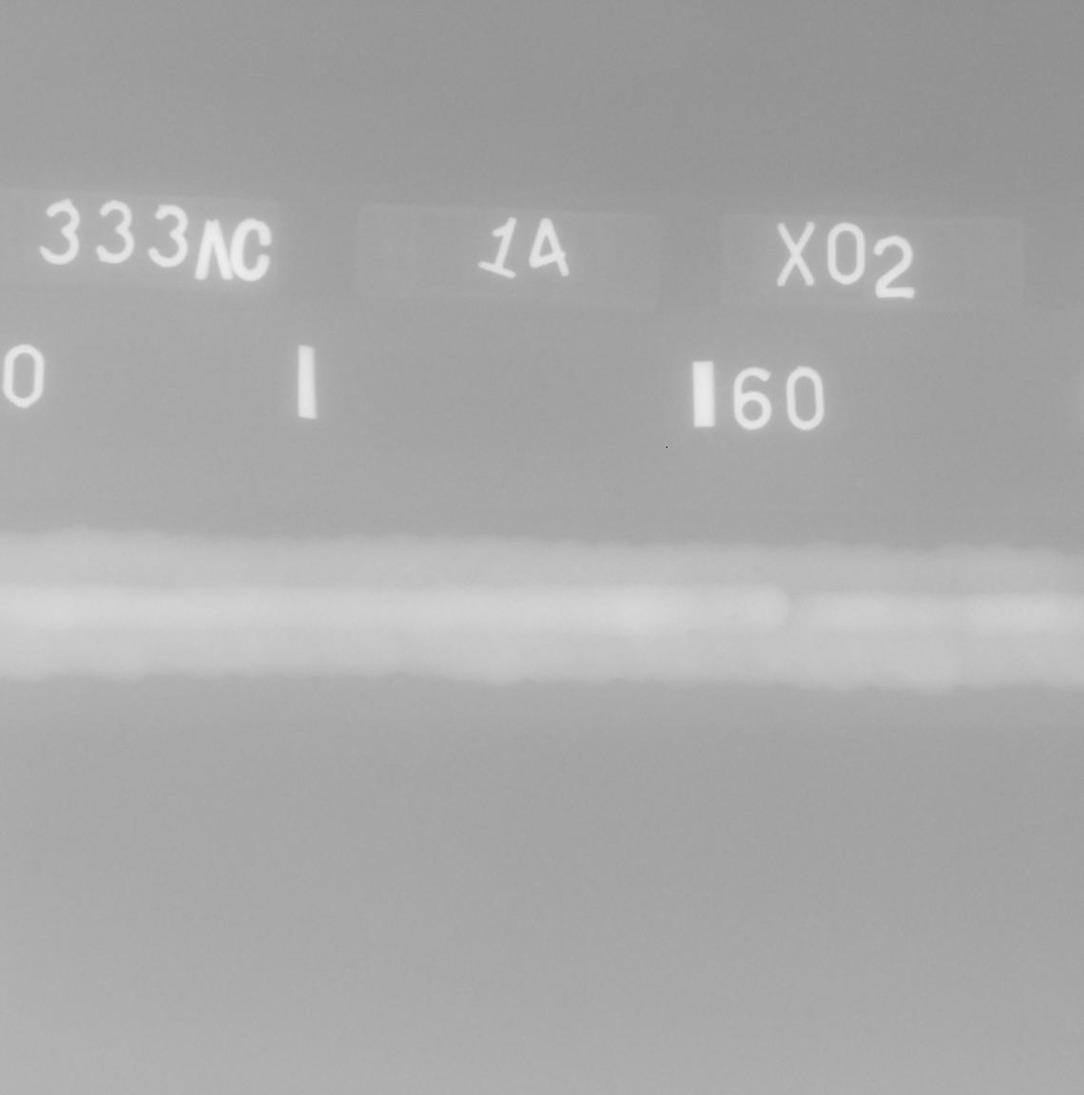Pore/Porosity: (751, 566, 760, 575), (951, 578, 957, 584), (732, 614, 737, 620)
